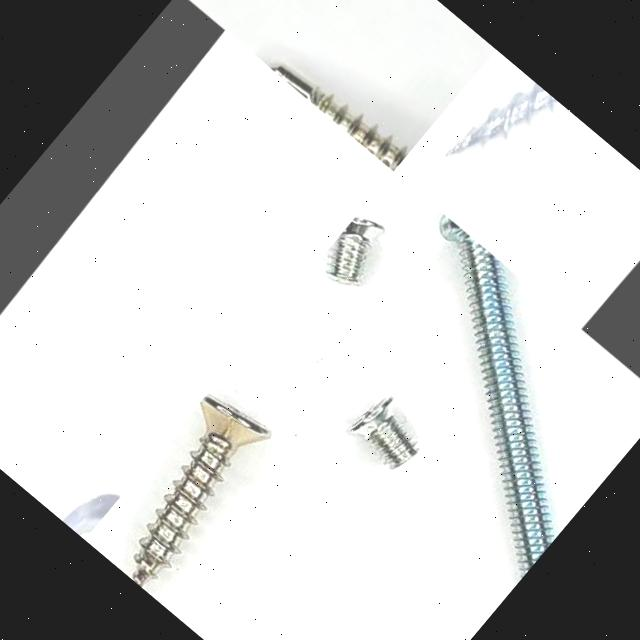Screw: (439, 214, 554, 578), (132, 393, 268, 586), (269, 67, 408, 171), (443, 82, 559, 157), (345, 396, 417, 468), (326, 215, 384, 284), (62, 495, 118, 540)
